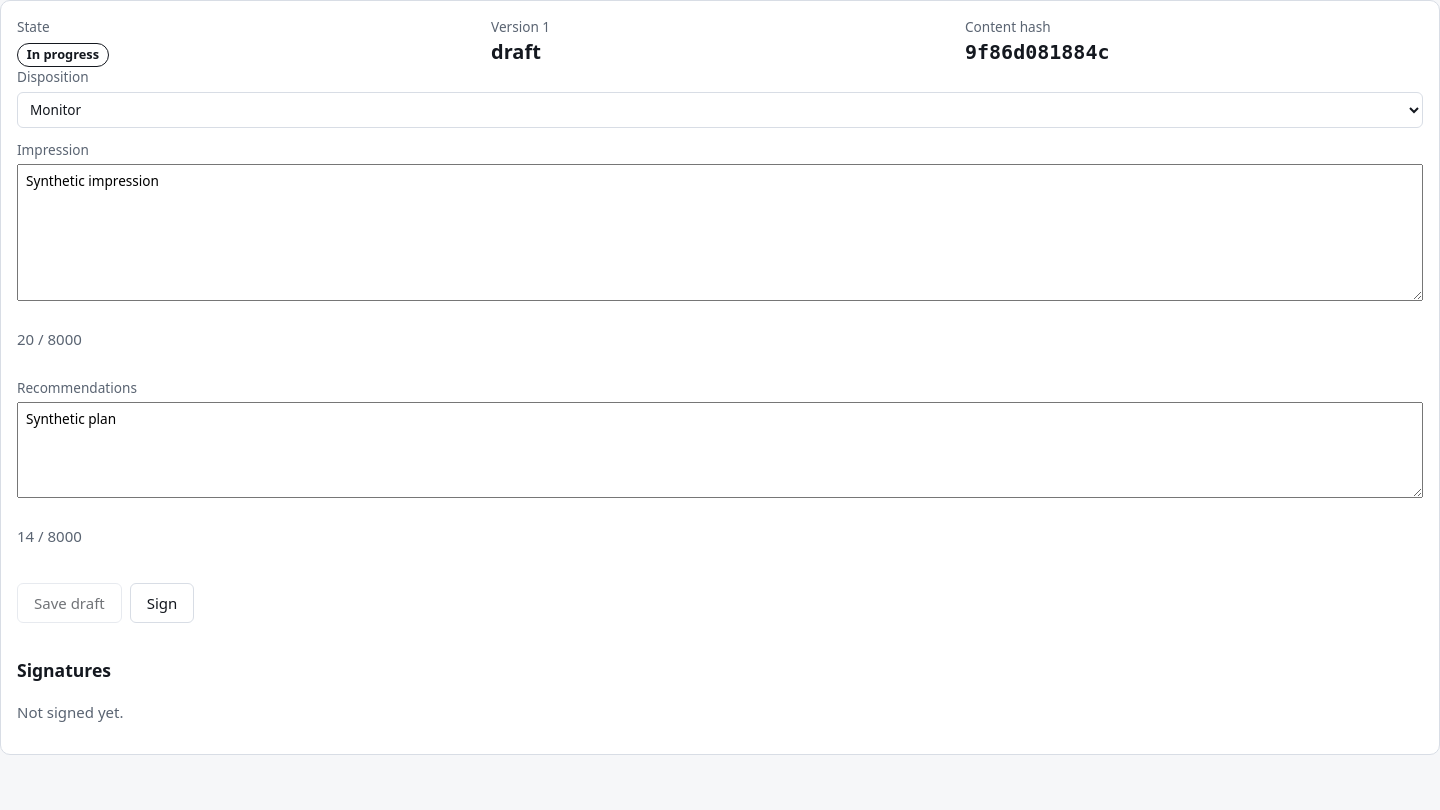
Test: ReviewPanel › saves a draft with the review's row_version (If-Match) and adopts the returned review
Replace the text in the text box labelled "Impression" with "Edited" at [720, 233], box left=17, top=164, right=1423, bottom=301
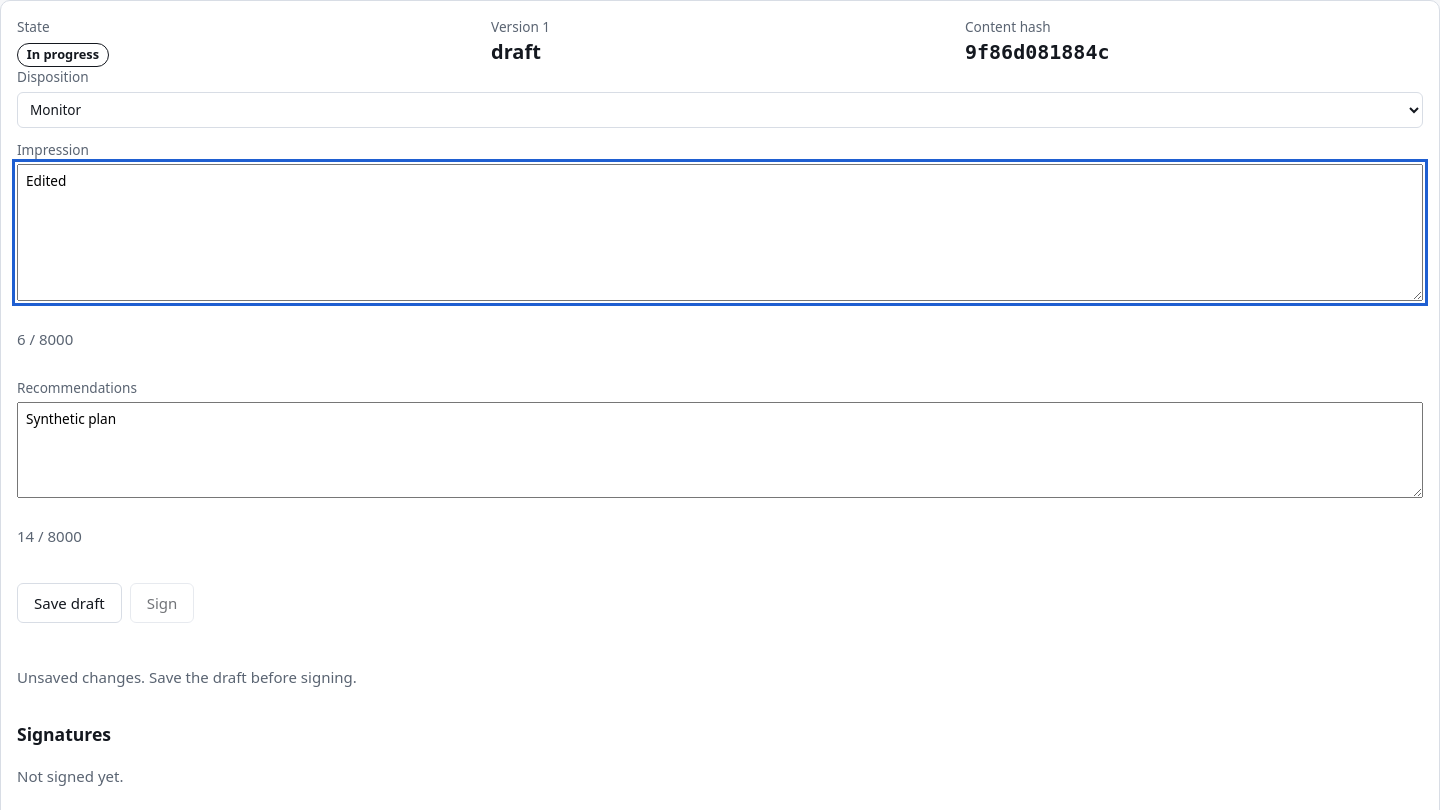
Expected: the button "Sign" is disabled, left=130, top=583, right=194, bottom=623
Click the button "Save draft".
click(69, 603)  # box left=17, top=583, right=122, bottom=623
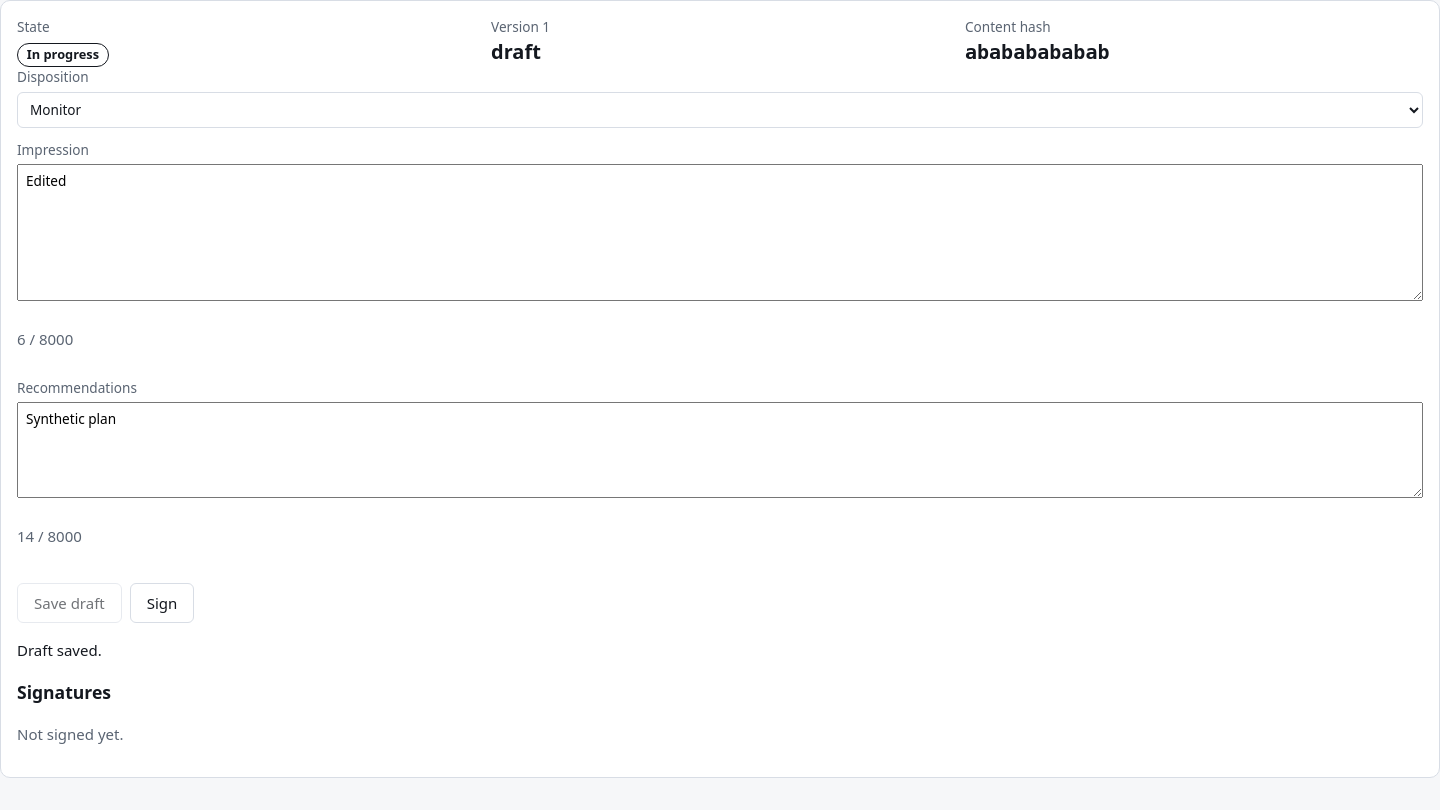
Expected: the text "Draft saved." is shown, left=17, top=640, right=102, bottom=660
Expected: the button "Sign" is enabled, left=130, top=583, right=194, bottom=623
